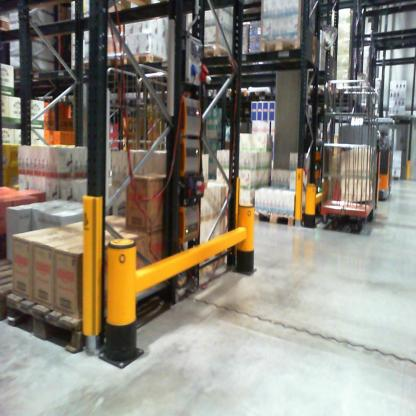pallet: (6, 277, 178, 360), (2, 234, 83, 332), (251, 200, 320, 231), (259, 34, 310, 62), (90, 1, 165, 19), (120, 49, 169, 70), (10, 61, 48, 84), (200, 45, 242, 65), (91, 54, 123, 72), (224, 88, 252, 104), (1, 8, 13, 38), (248, 87, 271, 101), (388, 109, 407, 122)
pallet_truck: (315, 84, 385, 239), (357, 108, 401, 221)
